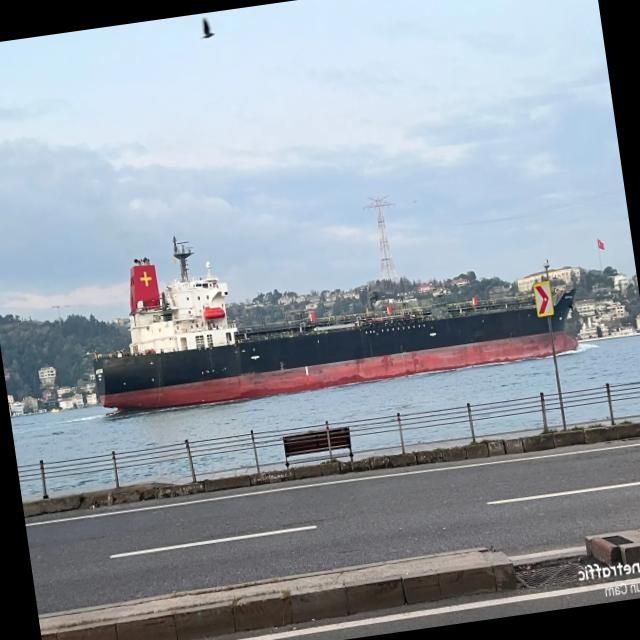Tanker: (94, 240, 577, 410)
